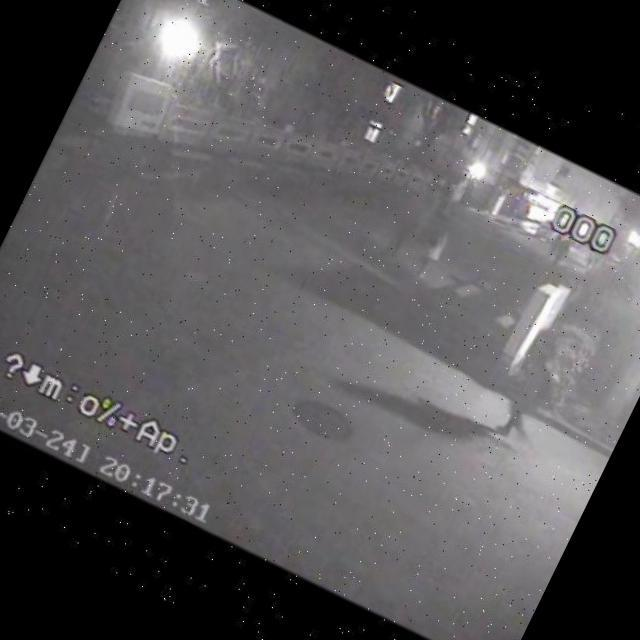person: (474, 320, 584, 454), (400, 208, 464, 292), (378, 196, 432, 267), (428, 171, 468, 218), (411, 169, 446, 212)
